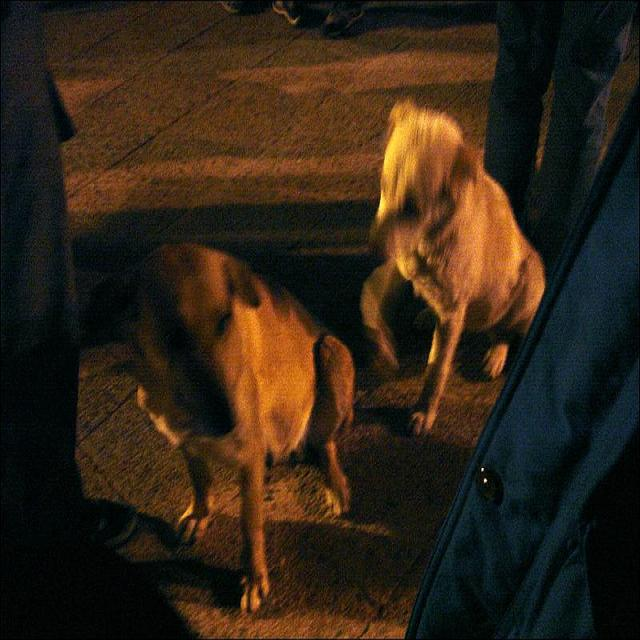dog: (130, 231, 357, 575), (385, 68, 596, 378)
